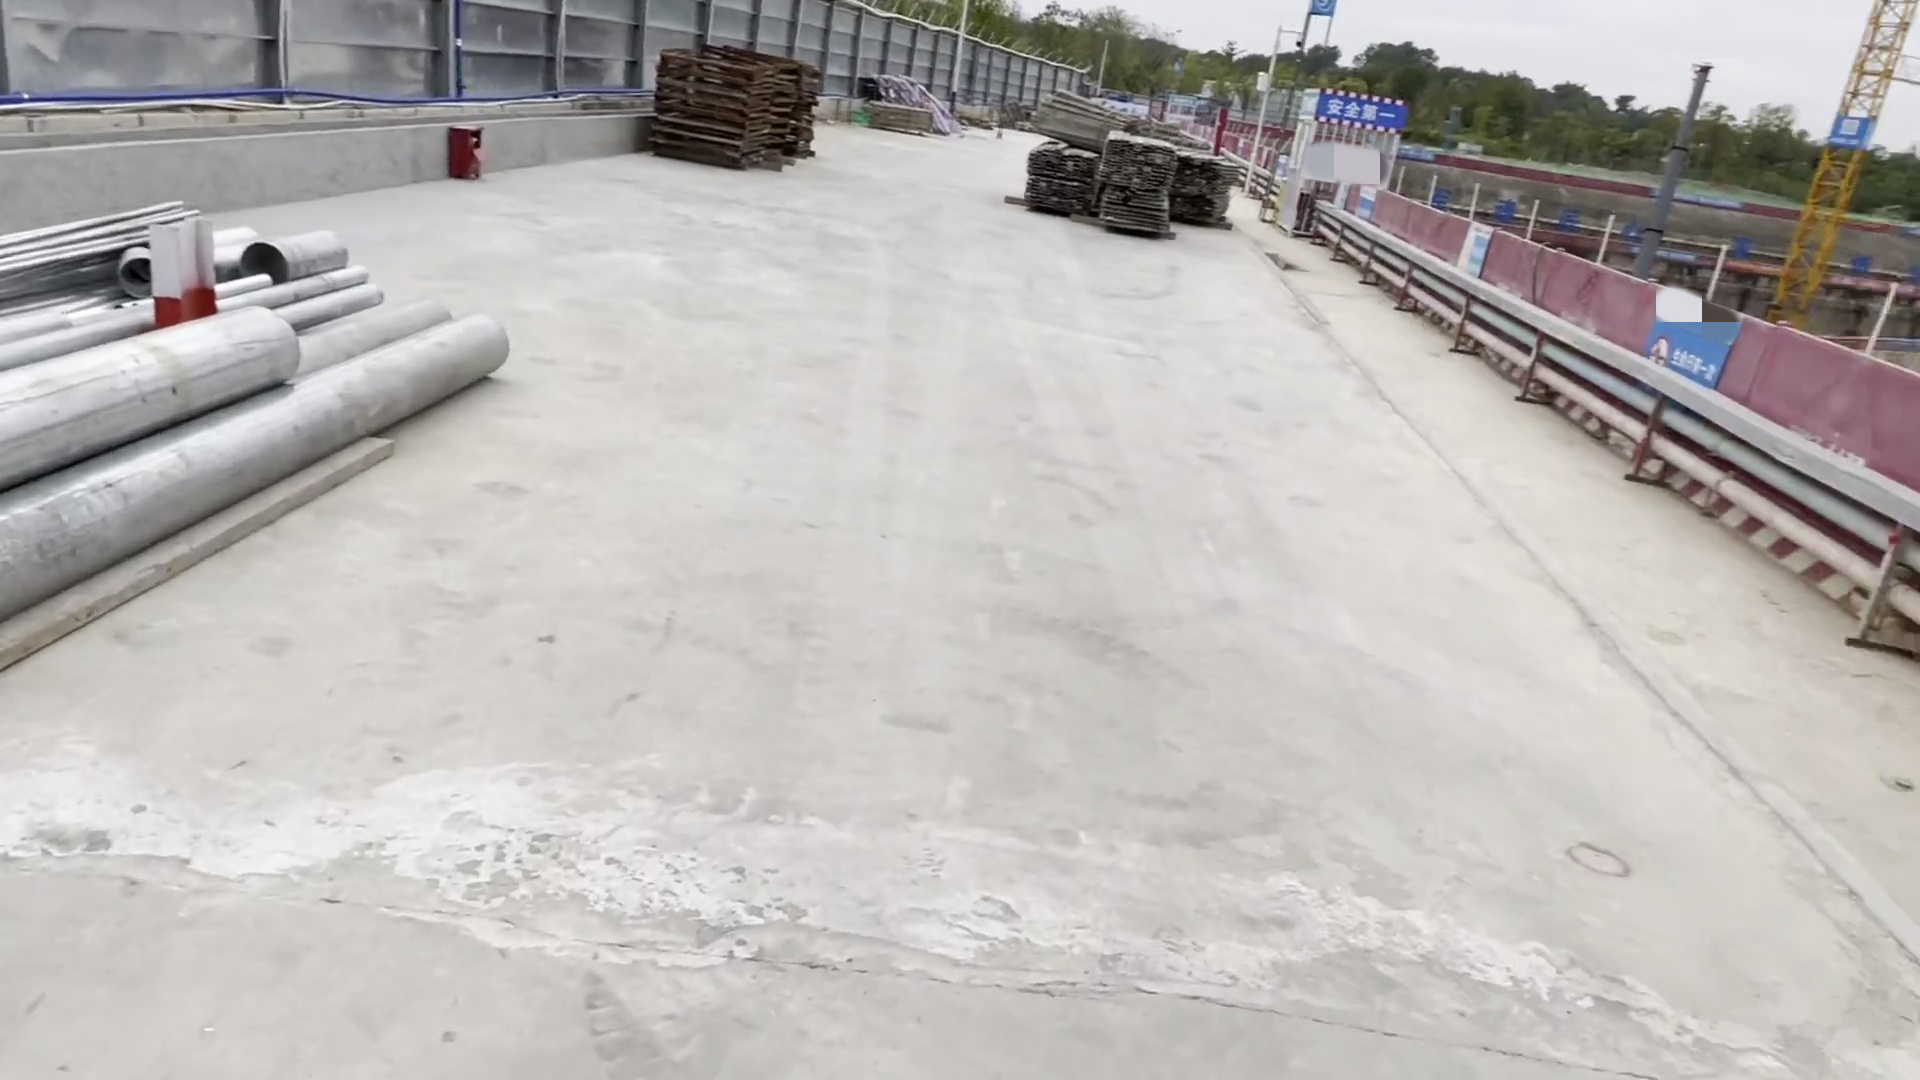slogan: (1648, 324, 1735, 393), (1311, 88, 1408, 136)
